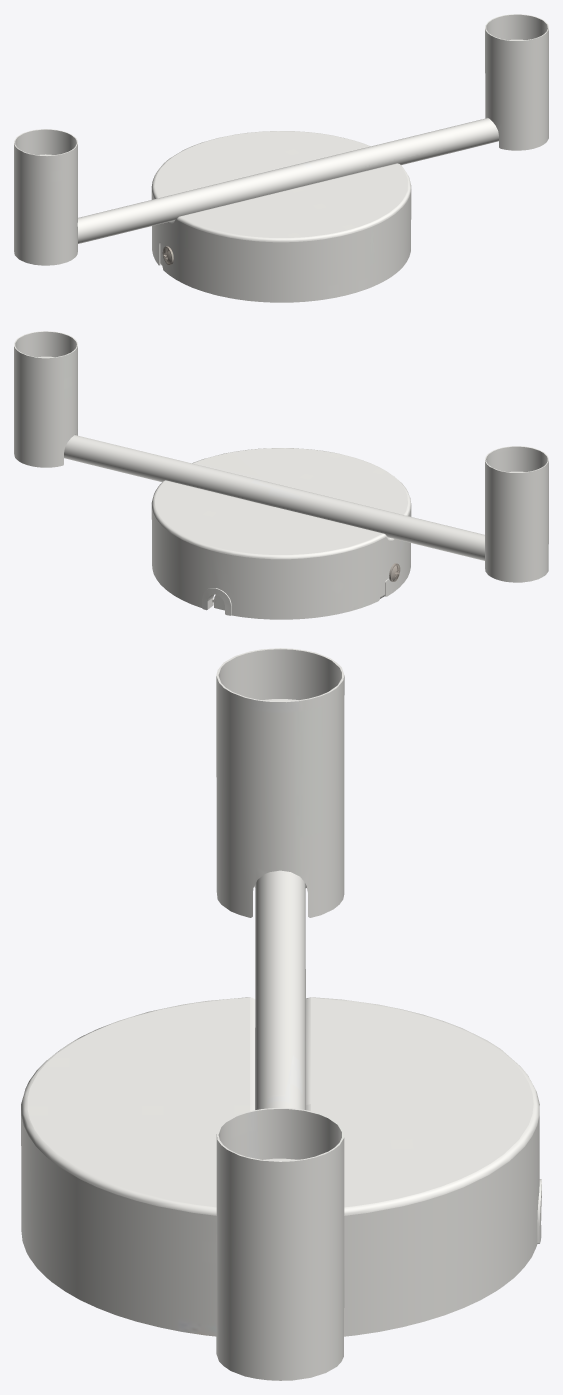
The model's file is krusnate_oprawa_sufitowa_2_reflektory_10562085.glb.
The picture shows the model from 3 angles, top to bottom: view 1: azimuth 30°, elevation 25°; view 2: azimuth 150°, elevation 25°; view 3: azimuth 270°, elevation 25°; orthographic projection. The views are drawn at different scales.
Parts seen in each view (by area): view 1: krusnate_oprawa_sufitowa_2_reflektory_10562085; view 2: krusnate_oprawa_sufitowa_2_reflektory_10562085; view 3: krusnate_oprawa_sufitowa_2_reflektory_10562085.
Boxes of the visible parts, <box> form: krusnate_oprawa_sufitowa_2_reflektory_10562085: <box>14,14,548,302</box>; krusnate_oprawa_sufitowa_2_reflektory_10562085: <box>14,331,548,619</box>; krusnate_oprawa_sufitowa_2_reflektory_10562085: <box>21,648,541,1380</box>.
Bounding box in the file's own units: 0.3045 × 0.091 × 0.1305.
1 material, 1 textured.
